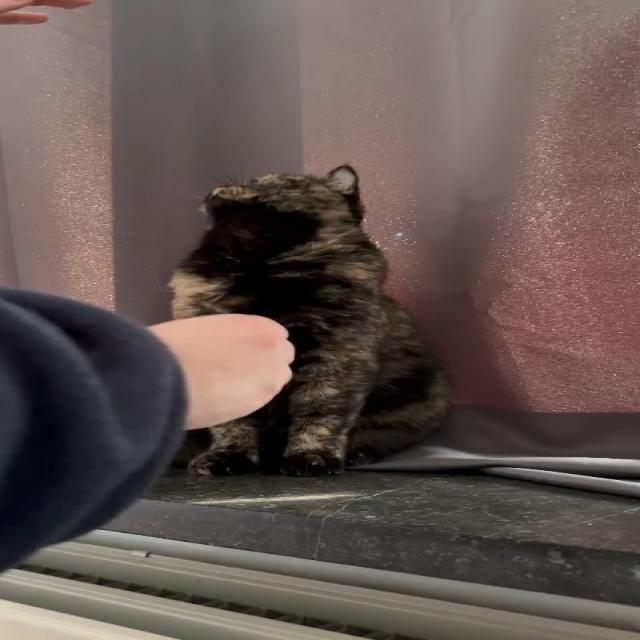authorized: (165, 163, 452, 477)
